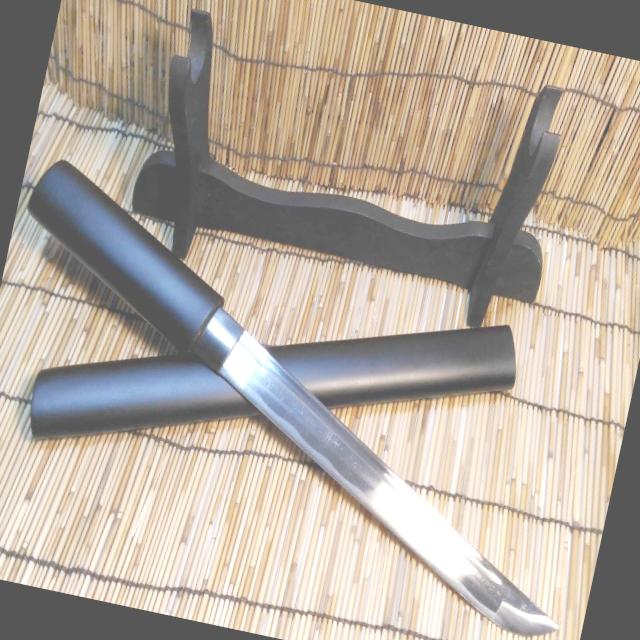short sword: (0, 175, 628, 640)
